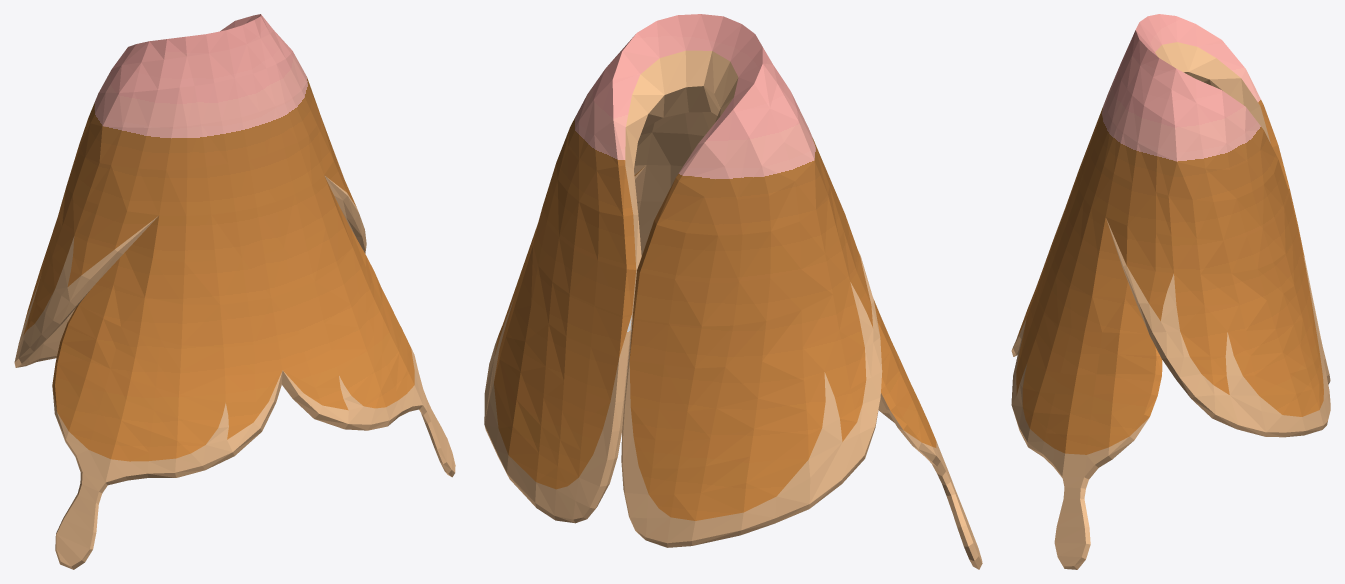
File: CharSkyKid_Wing_AP07Butterfly_01.glb
3 views of the same model, side by side, from view 1: azimuth 30°, elevation 25°; view 2: azimuth 150°, elevation 25°; view 3: azimuth 270°, elevation 25° (orthographic). The views are drawn at different scales.
Visible parts, largest first — view 1: CharSkyKid_Wing_AP07Butterfly_01; view 2: CharSkyKid_Wing_AP07Butterfly_01; view 3: CharSkyKid_Wing_AP07Butterfly_01.
Boxes of the visible parts, box(x1,y1,x2,y2) form: CharSkyKid_Wing_AP07Butterfly_01: box(14, 14, 455, 569); CharSkyKid_Wing_AP07Butterfly_01: box(484, 14, 982, 569); CharSkyKid_Wing_AP07Butterfly_01: box(1011, 14, 1330, 569).
Bounding box in the file's own units: 7.13 × 8.03 × 5.16.
Materials: 1 (1 with a texture image).
